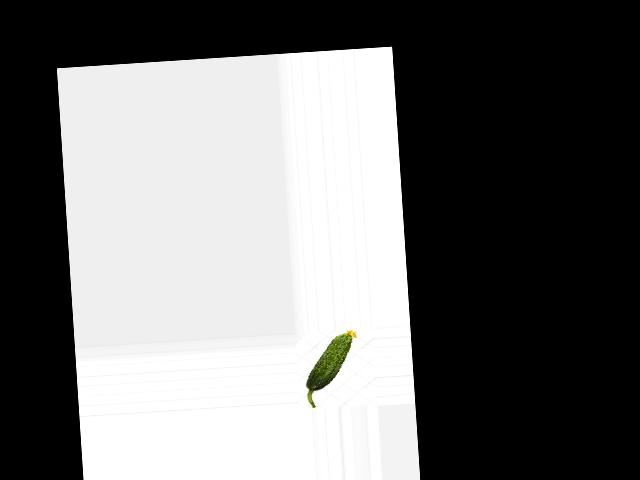cucumber: (302, 329, 361, 407)
